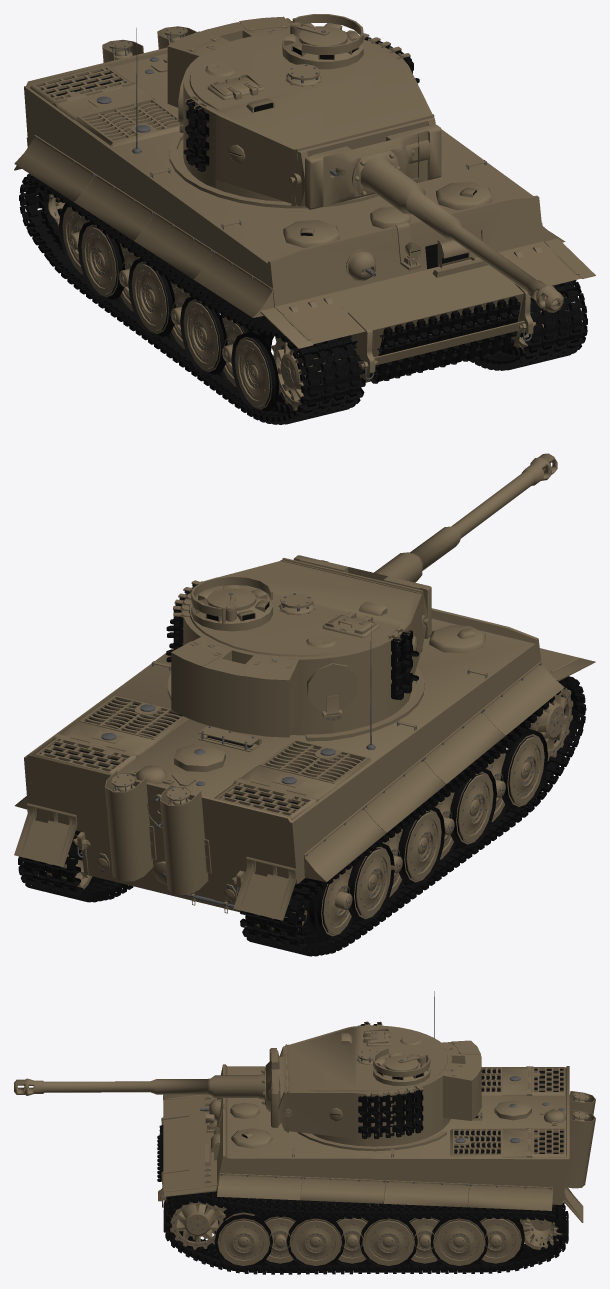
Rendered from tank.glb.
3 views of the same model, one above another, from view 1: azimuth 30°, elevation 25°; view 2: azimuth 150°, elevation 25°; view 3: azimuth 270°, elevation 25° (orthographic). The views are drawn at different scales.
Visible parts, largest first — view 1: TigerH1 Body, Cylinder.010, Cylinder; view 2: TigerH1 Body, Cylinder.010, Cylinder; view 3: TigerH1 Body, Cylinder.010, Cylinder.
Part boxes in pixels (left/top/right/bottom): TigerH1 Body: left=14, top=14, right=595, bottom=424; Cylinder.010: left=48, top=194, right=573, bottom=410; Cylinder: left=59, top=203, right=526, bottom=413; TigerH1 Body: left=14, top=453, right=595, bottom=956; Cylinder.010: left=47, top=688, right=573, bottom=938; Cylinder: left=92, top=729, right=548, bottom=940; TigerH1 Body: left=14, top=991, right=595, bottom=1274; Cylinder.010: left=170, top=1201, right=562, bottom=1265; Cylinder: left=214, top=1202, right=524, bottom=1268.
Bounding box in the file's own units: 3.83 × 3.35 × 8.79.
